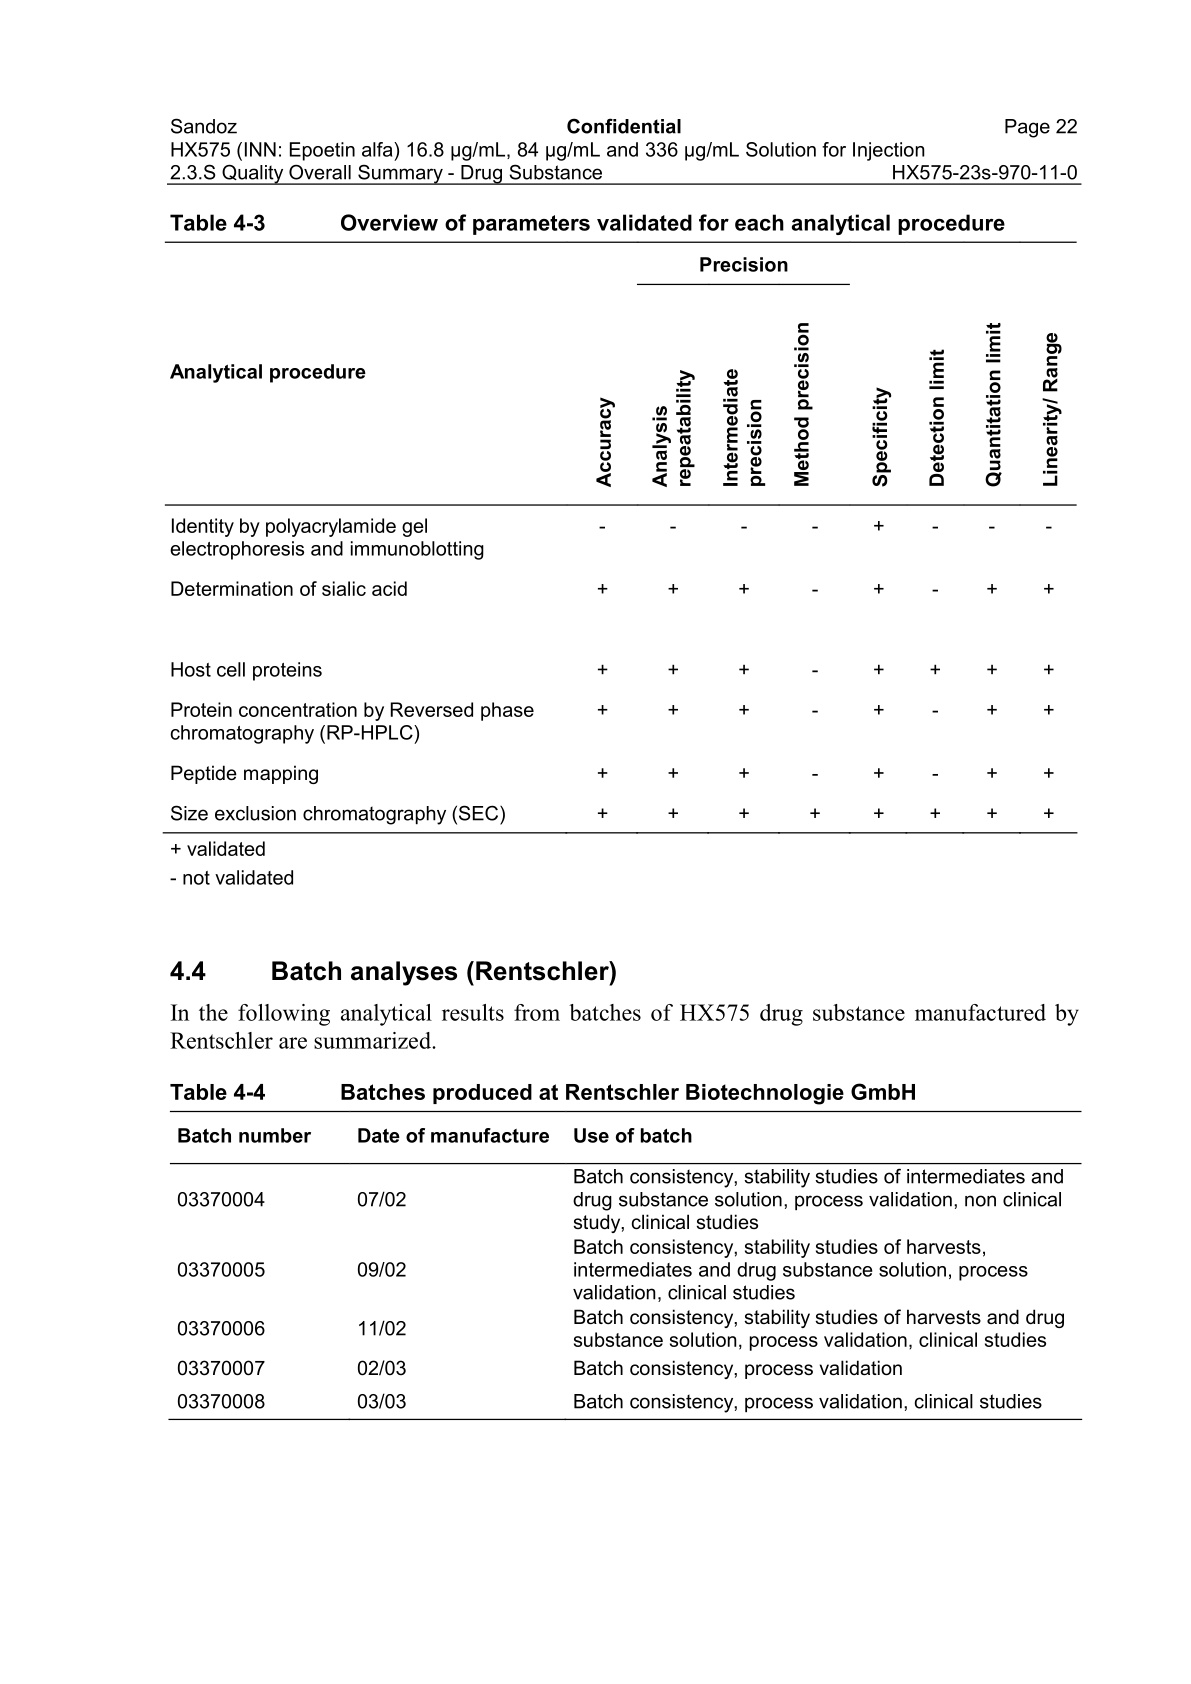partial_lined: (168, 1109, 1081, 1421)
partial_lined_merged_cells: (162, 238, 1078, 834)
